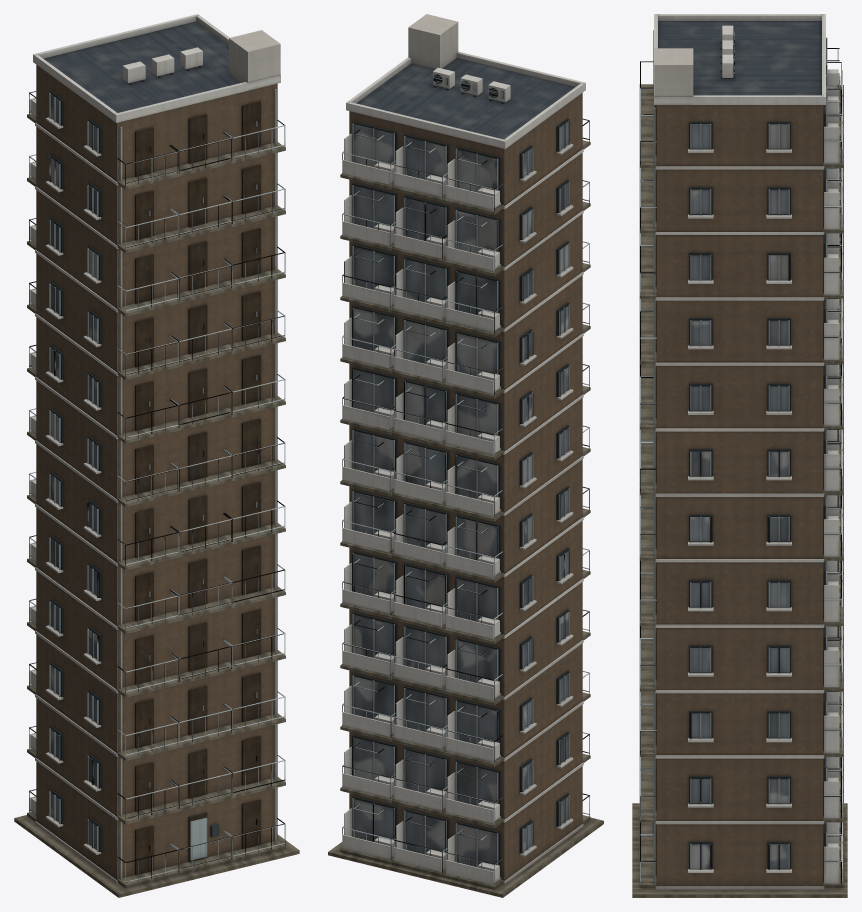
The model's file is residential_018.obj.
3 views of the same model, side by side, from view 1: azimuth 30°, elevation 25°; view 2: azimuth 150°, elevation 25°; view 3: azimuth 270°, elevation 25° (orthographic). The views are drawn at different scales.
Visible parts, largest first — view 1: residential_018; view 2: residential_018; view 3: residential_018.
Part boxes in pixels (<box>): residential_018: <box>14,14,299,897</box>; residential_018: <box>328,14,603,897</box>; residential_018: <box>632,14,847,897</box>.
Bounding box in the file's own units: 8.8 × 37.36 × 8.8.
Materials: 1 (1 with a texture image).
